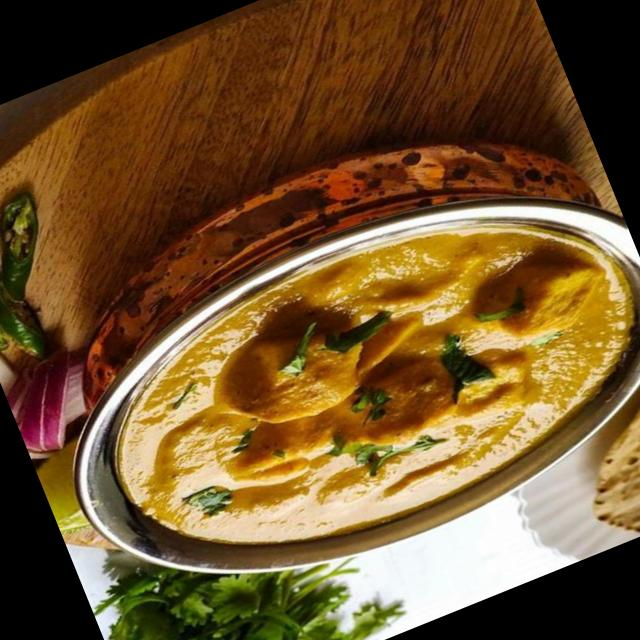ShahiPaneer: (63, 147, 640, 618)
